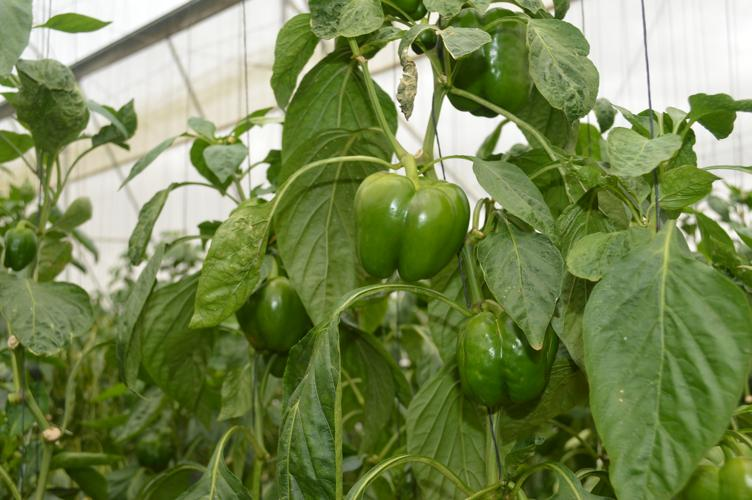BellPepper: (361, 174, 467, 279), (442, 14, 539, 121), (454, 316, 557, 410), (233, 278, 310, 358)
